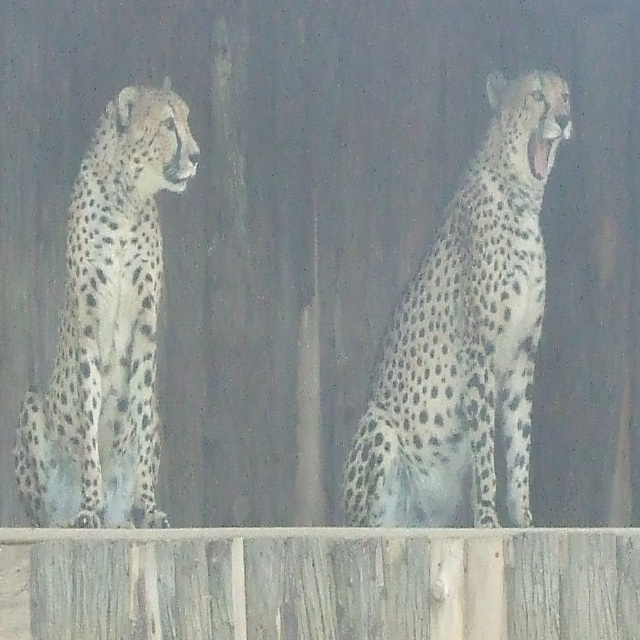Leopard: (339, 69, 573, 528), (10, 77, 200, 527)
